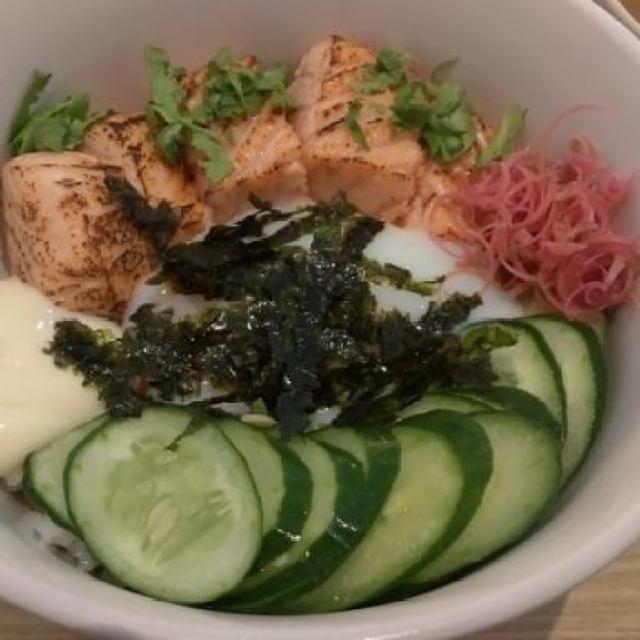Zucchini: (212, 300, 606, 620), (56, 397, 269, 611)
